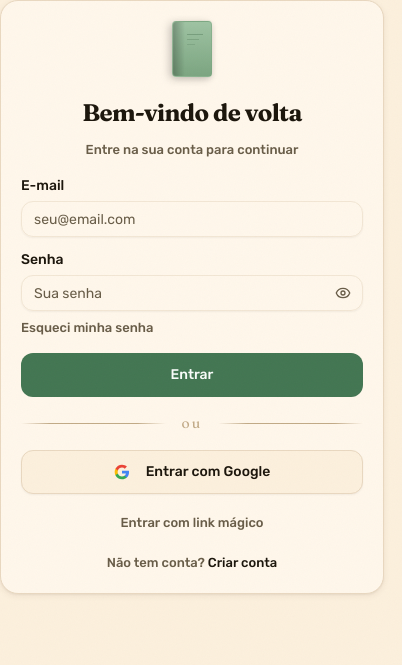
LoginPage › shows validation errors on empty submit
Click the button "Entrar".
click(192, 375)  # box [21,353,363,397]
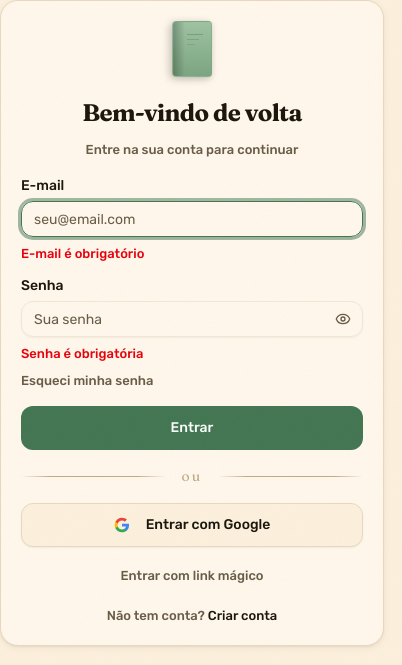
Expected: the text "E-mail é obrigatório" is shown, [21,246,144,261]
Expected: the text "Senha é obrigatória" is shown, [21,346,144,361]
